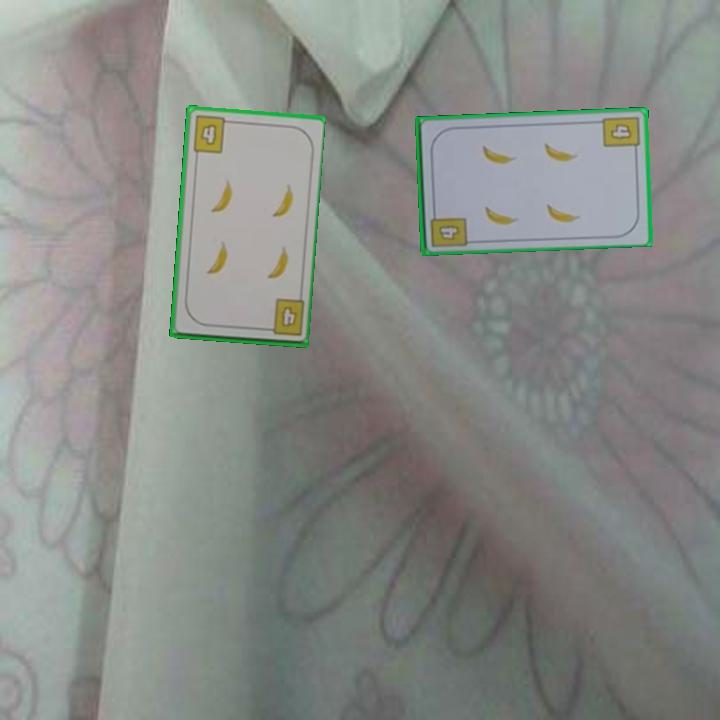4b: (260, 296, 307, 339), (189, 112, 234, 156), (599, 112, 642, 156), (426, 206, 469, 250)
